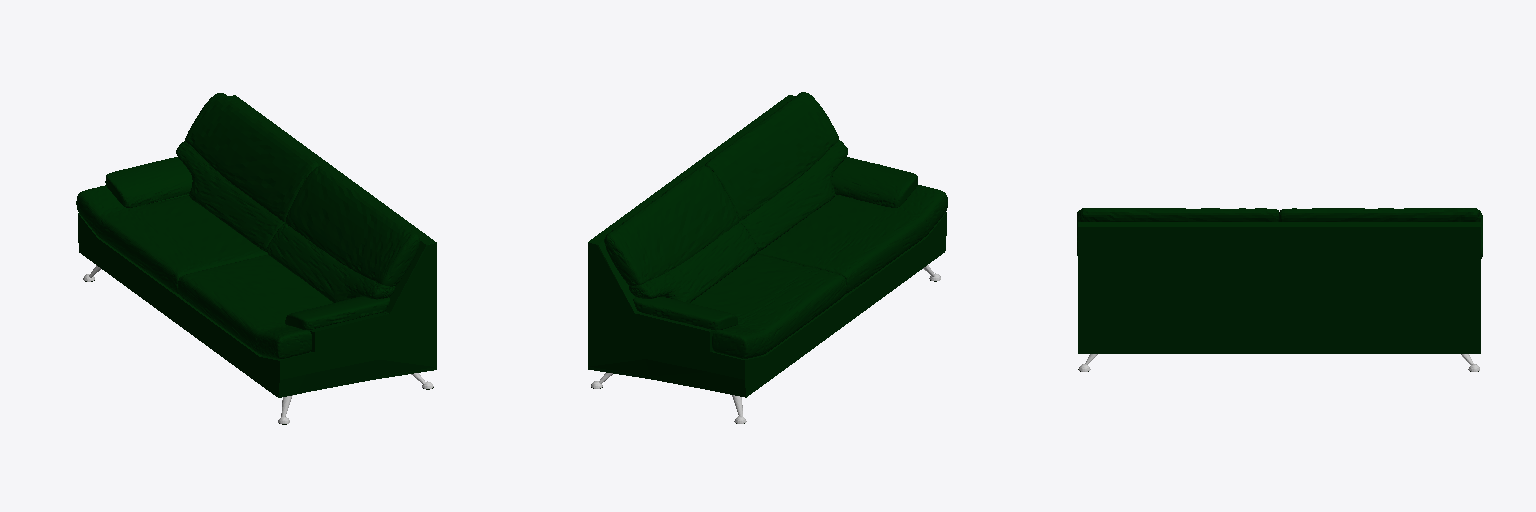
The model's file is couch.obj.
3 renders of one model, left to right at view 1: azimuth 30°, elevation 25°; view 2: azimuth 150°, elevation 25°; view 3: azimuth 270°, elevation 25°, orthographic.
Visible parts, largest first — view 1: espaldar_sofa, sofa-base, sofa-cojin, sofa-brazos; view 2: espaldar_sofa, sofa-base, sofa-cojin, sofa-brazos; view 3: sofa-base, espaldar_sofa.
Boxes of the visible parts, <box> form: espaldar_sofa: <box>176,93,419,302</box>; sofa-base: <box>78,95,436,424</box>; sofa-cojin: <box>76,185,332,358</box>; sofa-brazos: <box>105,157,389,329</box>; espaldar_sofa: <box>604,92,847,302</box>; sofa-base: <box>588,95,946,423</box>; sofa-cojin: <box>691,185,947,358</box>; sofa-brazos: <box>633,157,917,329</box>; sofa-base: <box>1078,222,1480,371</box>; espaldar_sofa: <box>1078,208,1480,221</box>.
Size of the model in its own units: 0.9124 by 0.8487 by 2.01.